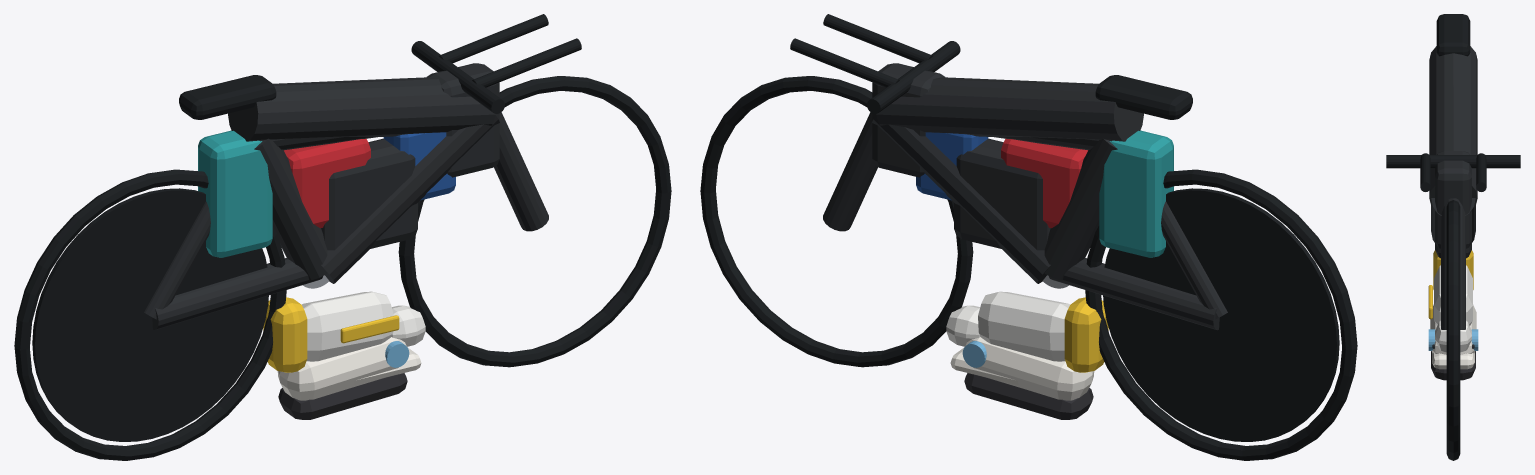
File: kona_heritage_nike_pack.glb
3 views of the same model, side by side, from view 1: azimuth 30°, elevation 25°; view 2: azimuth 150°, elevation 25°; view 3: azimuth 270°, elevation 25° (orthographic). The views are drawn at different scales.
Visible parts, largest first — view 1: bmc-speedmachine-kona-study_REAR_DISC, cervelo-p5x-kona-study_BEAM, bmc-speedmachine-kona-study_REAR_WHEEL, bmc-speedmachine-kona-study_FRONT_WHEEL, bmc-speedmachine-kona-study_SPEEDMACHINE_STORAGE, felt-ia-kona-study_IA_FAIRING, bmc-speedmachine-kona-study_DOWN_TUBE, bmc-speedmachine-kona-study_SEAT_TUBE, cervelo-p5x-kona-study_STAY, nike-alphafly-3-study_UPPER, specialized-shiv-disc-kona-study_FUELCELL, nike-alphafly-3-study_MIDSOLE (+13 smaller); view 2: bmc-speedmachine-kona-study_REAR_DISC, cervelo-p5x-kona-study_BEAM, bmc-speedmachine-kona-study_REAR_WHEEL, bmc-speedmachine-kona-study_FRONT_WHEEL, bmc-speedmachine-kona-study_SPEEDMACHINE_STORAGE, felt-ia-kona-study_IA_FAIRING, bmc-speedmachine-kona-study_DOWN_TUBE, nike-alphafly-3-study_UPPER, bmc-speedmachine-kona-study_SEAT_TUBE, cervelo-p5x-kona-study_STAY, specialized-shiv-disc-kona-study_FUELCELL, nike-alphafly-3-study_MIDSOLE (+12 smaller); view 3: cervelo-p5x-kona-study_BEAM, bmc-speedmachine-kona-study_FRONT_WHEEL, scott-plasma-kona-study_PLASMA_HEAD, cervelo-p5x-kona-study_FORK, bmc-speedmachine-kona-study_SADDLE, bmc-speedmachine-kona-study_AERO_BASE, nike-alphafly-3-study_UPPER, nike-alphafly-3-study_TOE, nike-alphafly-3-study_CONTINUOUS_BOTTOM, bmc-speedmachine-kona-study_EXT_L, bmc-speedmachine-kona-study_EXT_R, bmc-speedmachine-kona-study_DOWN_TUBE (+5 smaller).
Part boxes in pixels (bbox=[...]): bmc-speedmachine-kona-study_REAR_DISC: bbox=[32, 188, 268, 441]; cervelo-p5x-kona-study_BEAM: bbox=[228, 77, 495, 141]; bmc-speedmachine-kona-study_REAR_WHEEL: bbox=[14, 169, 286, 460]; bmc-speedmachine-kona-study_FRONT_WHEEL: bbox=[398, 76, 671, 367]; bmc-speedmachine-kona-study_SPEEDMACHINE_STORAGE: bbox=[198, 130, 272, 257]; felt-ia-kona-study_IA_FAIRING: bbox=[321, 138, 417, 250]; bmc-speedmachine-kona-study_DOWN_TUBE: bbox=[321, 115, 499, 283]; bmc-speedmachine-kona-study_SEAT_TUBE: bbox=[254, 138, 327, 280]; cervelo-p5x-kona-study_STAY: bbox=[152, 258, 322, 330]; nike-alphafly-3-study_UPPER: bbox=[302, 291, 393, 361]; specialized-shiv-disc-kona-study_FUELCELL: bbox=[284, 138, 370, 228]; nike-alphafly-3-study_MIDSOLE: bbox=[277, 337, 406, 400]; bmc-speedmachine-kona-study_REAR_DISC: bbox=[1103, 188, 1339, 441]; cervelo-p5x-kona-study_BEAM: bbox=[876, 77, 1143, 141]; bmc-speedmachine-kona-study_REAR_WHEEL: bbox=[1085, 169, 1357, 460]; bmc-speedmachine-kona-study_FRONT_WHEEL: bbox=[700, 76, 973, 367]; bmc-speedmachine-kona-study_SPEEDMACHINE_STORAGE: bbox=[1099, 130, 1173, 257]; felt-ia-kona-study_IA_FAIRING: bbox=[954, 138, 1050, 250]; bmc-speedmachine-kona-study_DOWN_TUBE: bbox=[872, 115, 1050, 283]; nike-alphafly-3-study_UPPER: bbox=[978, 291, 1069, 361]; bmc-speedmachine-kona-study_SEAT_TUBE: bbox=[1044, 138, 1117, 280]; cervelo-p5x-kona-study_STAY: bbox=[1049, 258, 1219, 330]; specialized-shiv-disc-kona-study_FUELCELL: bbox=[1001, 138, 1087, 228]; nike-alphafly-3-study_MIDSOLE: bbox=[965, 337, 1094, 400]; cervelo-p5x-kona-study_BEAM: bbox=[1429, 46, 1477, 206]; bmc-speedmachine-kona-study_FRONT_WHEEL: bbox=[1446, 200, 1460, 460]; scott-plasma-kona-study_PLASMA_HEAD: bbox=[1435, 151, 1471, 248]; cervelo-p5x-kona-study_FORK: bbox=[1441, 198, 1465, 329]; bmc-speedmachine-kona-study_SADDLE: bbox=[1436, 14, 1470, 56]; bmc-speedmachine-kona-study_AERO_BASE: bbox=[1386, 155, 1520, 168]; nike-alphafly-3-study_UPPER: bbox=[1434, 265, 1472, 325]; nike-alphafly-3-study_TOE: bbox=[1435, 320, 1471, 352]; nike-alphafly-3-study_CONTINUOUS_BOTTOM: bbox=[1432, 352, 1474, 369]; bmc-speedmachine-kona-study_EXT_L: bbox=[1420, 153, 1430, 191]; bmc-speedmachine-kona-study_EXT_R: bbox=[1476, 153, 1486, 191]; bmc-speedmachine-kona-study_DOWN_TUBE: bbox=[1431, 198, 1475, 242].
Bounding box in the file's own units: 1.71 × 0.873 × 0.36.
